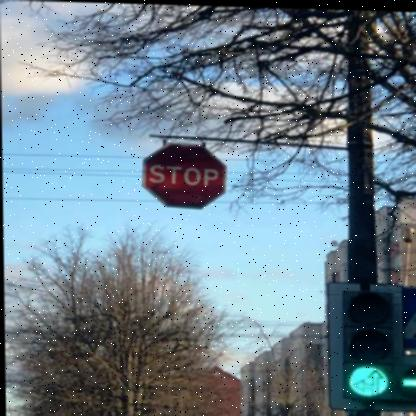Stop Sign: (137, 137, 230, 214)
